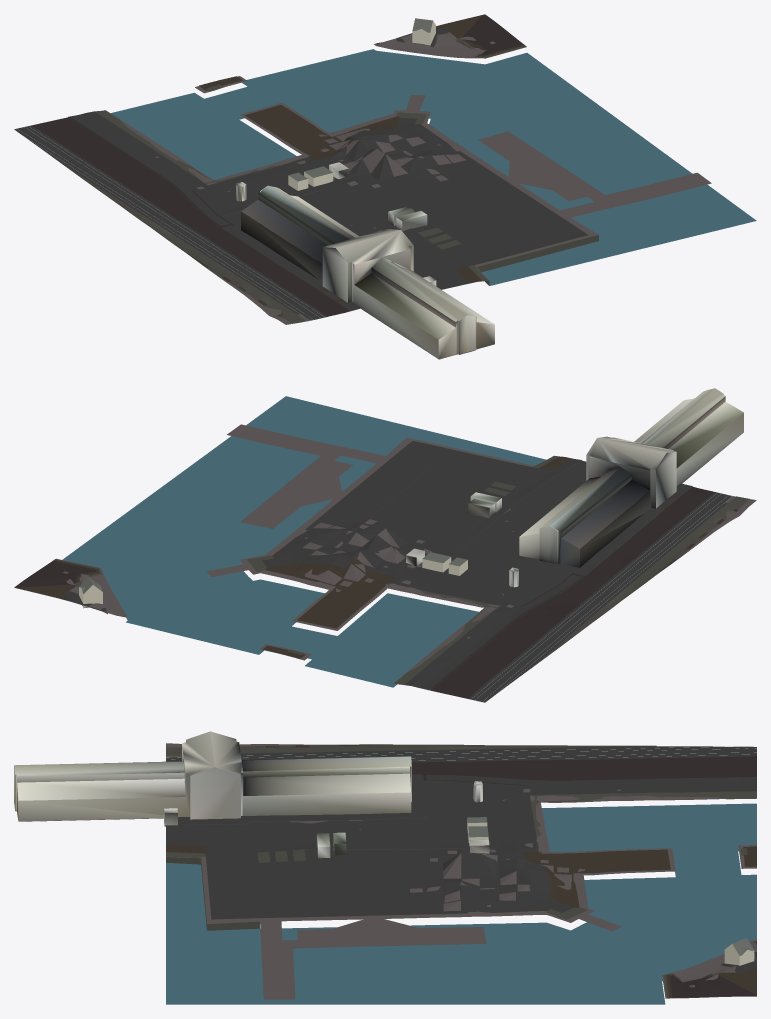
3 views of the same model, one above another, from view 1: azimuth 30°, elevation 25°; view 2: azimuth 150°, elevation 25°; view 3: azimuth 270°, elevation 25° (orthographic). The views are drawn at different scales.
Parts seen in each view (by area): view 1: c_p00_p02; view 2: c_p00_p02; view 3: c_p00_p02.
Part boxes in pixels (x1=…): c_p00_p02: x1=14, y1=14, x2=756, y2=359; c_p00_p02: x1=14, y1=388, x2=756, y2=702; c_p00_p02: x1=14, y1=731, x2=756, y2=1004.
Bounding box in the file's own units: 128 × 14.51 × 161.
